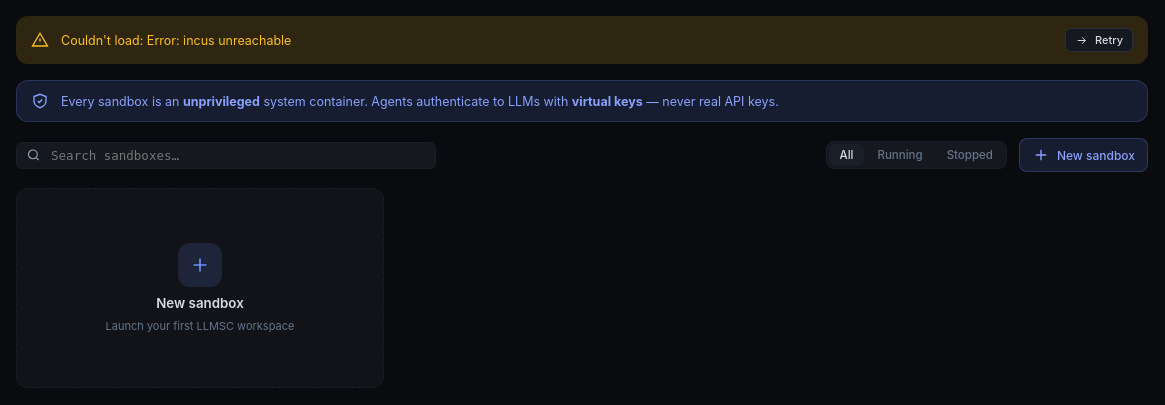
Test: Sandboxes › shows a fetch error with retry, then recovers
Check: the message with test id "fetch-error" shows "incus unreachable", box [61, 32, 291, 48]
What coordinates should you click on to do the following:
click the button "Retry"
I would click on:
 (1099, 40)
Its box is [1065, 28, 1133, 52].
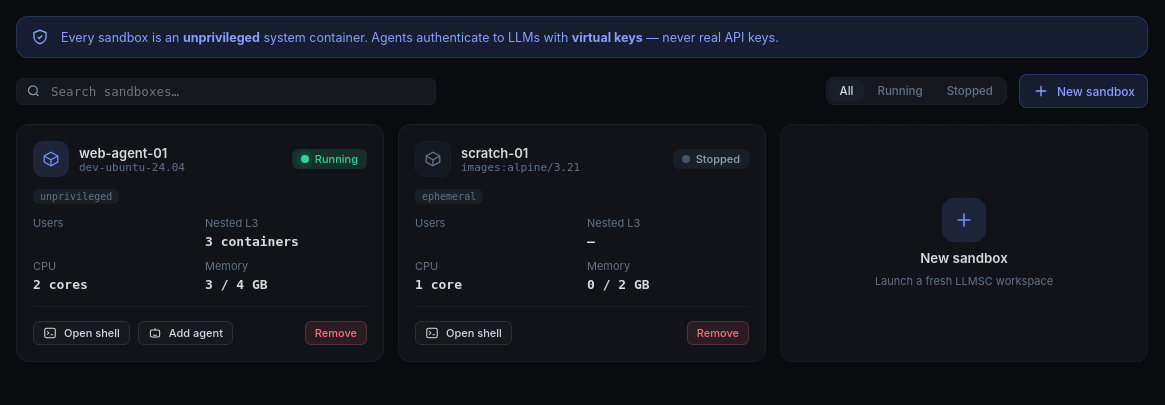
Check: the button "web-agent-01" is shown, box [79, 144, 167, 160]
Check: the message with test id "fetch-error" is gone
